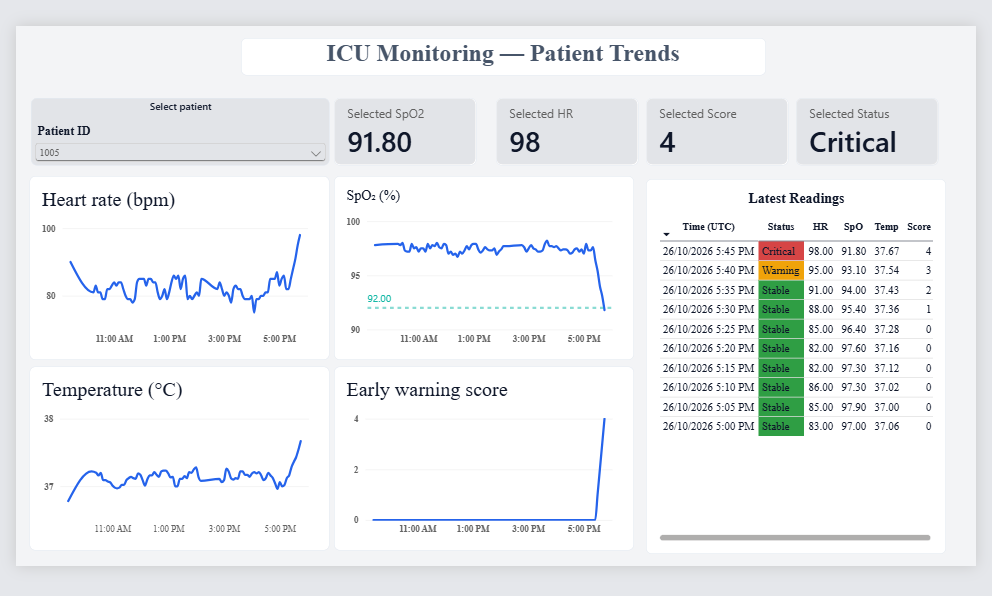

What the dashboard file says about the page in this screenshot:
{"tool":"powerbi","page":{"name":"Patient Trends","canvas":[1280,720],"ordinal":1},"visuals":[{"type":"textbox","box":[300,16,700,50],"z":0},{"type":"slicer","title":"Select patient","fields":{"Values":["gold_patient_current_status.patient_id"]},"box":[20,96,398,90],"z":1000},{"type":"tableEx","title":"Latest Readings","fields":{"Values":["gold_patient_vitals_scored.event_ts","gold_patient_vitals_scored.patient_status","gold_patient_vitals_scored.heart_rate","gold_patient_vitals_scored.spo2","gold_patient_vitals_scored.temperature_c","gold_patient_vitals_scored.total_score"]},"box":[840,204,400,500],"z":2000},{"type":"lineChart","title":"Heart rate (bpm)","fields":{"Category":["gold_patient_vitals_scored.event_ts"],"Y":["Avg(gold_patient_vitals_scored.heart_rate)"]},"box":[18.9,199.4,400,245],"z":3000},{"type":"lineChart","title":"SpO₂ (%)","fields":{"Category":["gold_patient_vitals_scored.event_ts"],"Y":["Avg(gold_patient_vitals_scored.spo2)"]},"box":[423.9,199.4,400,245],"z":4000},{"type":"lineChart","title":"Temperature (°C)","fields":{"Category":["gold_patient_vitals_scored.event_ts"],"Y":["Avg(gold_patient_vitals_scored.temperature_c)"]},"box":[18.9,454.4,400,245],"z":5000},{"type":"lineChart","title":"Early warning score","fields":{"Category":["gold_patient_vitals_scored.event_ts"],"Y":["Avg(gold_patient_vitals_scored.total_score)"]},"box":[423.9,454.4,400,245],"z":6000},{"type":"cardVisual","fields":{"Data":["_Measures.Selected SpO2"]},"box":[424,96,190,90],"z":7000},{"type":"cardVisual","fields":{"Data":["_Measures.Selected HR"]},"box":[634,98,190,90],"z":8000},{"type":"cardVisual","fields":{"Data":["_Measures.Selected Score"]},"box":[840,96,190,90],"z":9000},{"type":"cardVisual","fields":{"Data":["_Measures.Selected Status"]},"box":[1040,96,190,90],"z":10000}]}

Visuals, with their boxes on the page's 1280x720 design canvas (x1, y1, x2, y2). These are canvas units, not pixel positions in the 992x596 screenshot, which may show the page scaled, cropped or inside an application window:
textbox: crop(300, 16, 1000, 66)
"Select patient" slicer: crop(20, 96, 418, 186)
"Latest Readings" tableEx: crop(840, 204, 1240, 704)
"Heart rate (bpm)" lineChart: crop(19, 199, 419, 444)
"SpO₂ (%)" lineChart: crop(424, 199, 824, 444)
"Temperature (°C)" lineChart: crop(19, 454, 419, 699)
"Early warning score" lineChart: crop(424, 454, 824, 699)
cardVisual - _Measures.Selected SpO2: crop(424, 96, 614, 186)
cardVisual - _Measures.Selected HR: crop(634, 98, 824, 188)
cardVisual - _Measures.Selected Score: crop(840, 96, 1030, 186)
cardVisual - _Measures.Selected Status: crop(1040, 96, 1230, 186)
